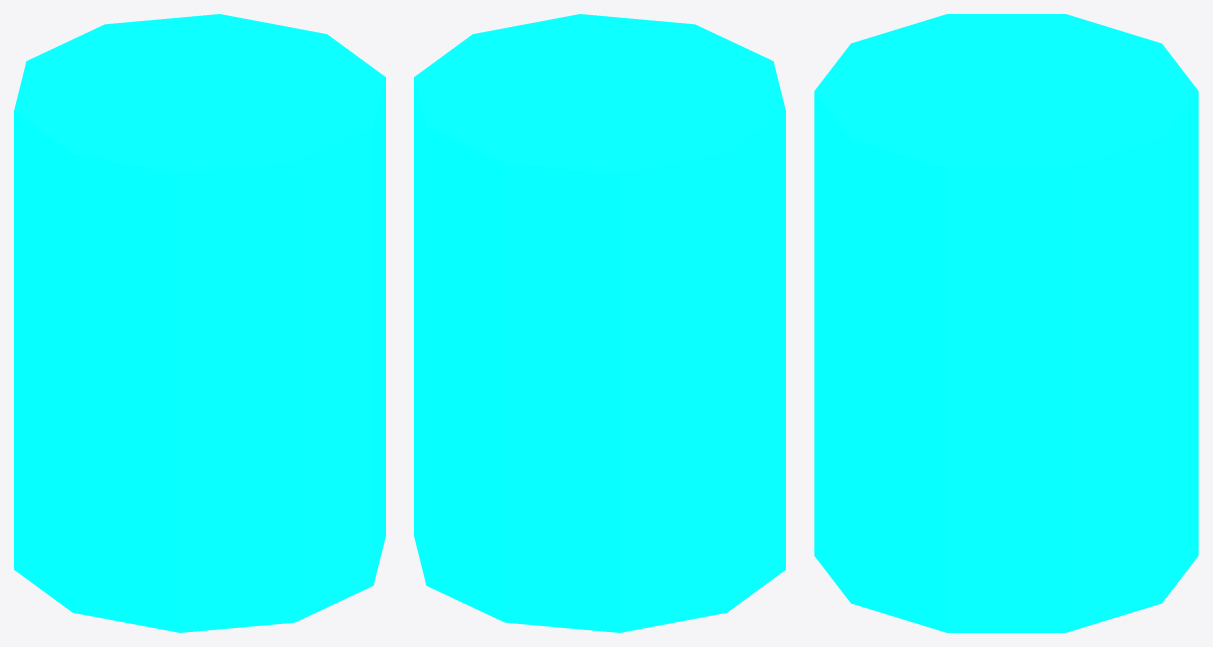
File: pickup_coolant_cell.glb
3 views of the same model, side by side, from view 1: azimuth 30°, elevation 25°; view 2: azimuth 150°, elevation 25°; view 3: azimuth 270°, elevation 25° (orthographic).
Parts seen in each view (by area): view 1: Cylinder; view 2: Cylinder; view 3: Cylinder.
Boxes of the visible parts, <box> form: Cylinder: <box>14,14,385,632</box>; Cylinder: <box>414,14,785,632</box>; Cylinder: <box>814,14,1198,632</box>.
Bounding box in the file's own units: 0.856 × 1.2 × 0.9.
